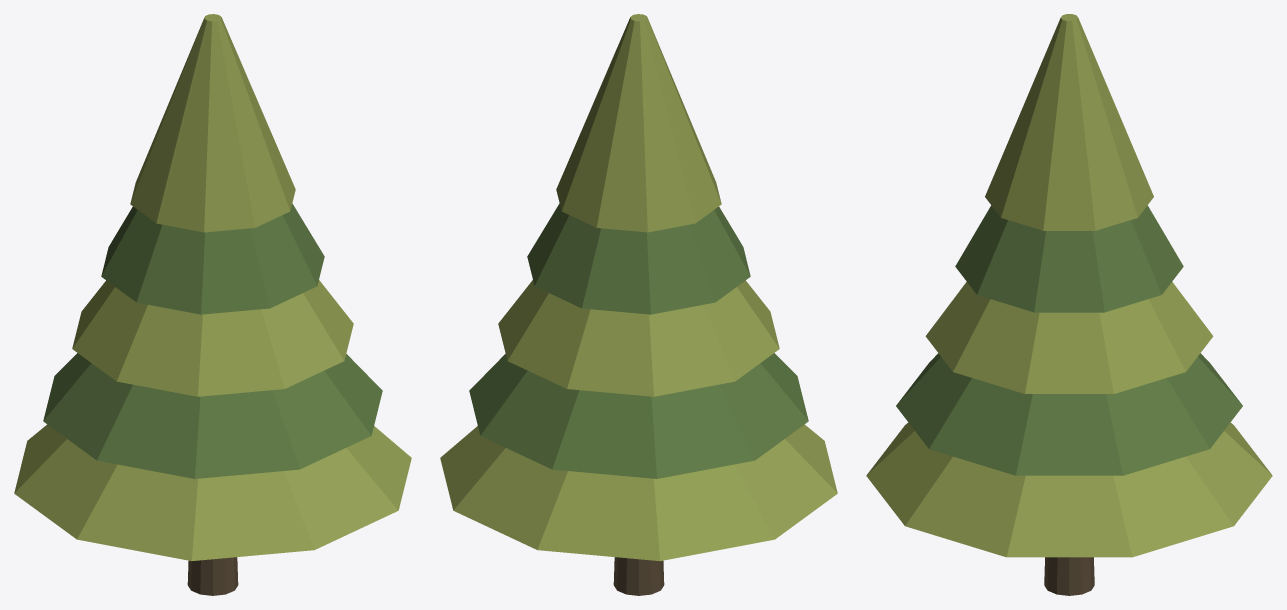
Rendered from SM_Fir.fbx.
3 views of the same model, side by side, from view 1: azimuth 30°, elevation 25°; view 2: azimuth 150°, elevation 25°; view 3: azimuth 270°, elevation 25° (orthographic).
Visible parts, largest first — view 1: Needle_whorl, Needle_whorl.001, Needle_whorl.002, Needle_whorl.004, Needle_whorl.003, Fir_trunk; view 2: Needle_whorl, Needle_whorl.001, Needle_whorl.002, Needle_whorl.004, Needle_whorl.003, Fir_trunk; view 3: Needle_whorl, Needle_whorl.001, Needle_whorl.002, Needle_whorl.004, Needle_whorl.003, Fir_trunk.
Part boxes in pixels (x1,y1,x2,y2): Needle_whorl: (14, 424, 411, 561); Needle_whorl.001: (43, 353, 382, 478); Needle_whorl.002: (72, 280, 353, 396); Needle_whorl.004: (130, 14, 295, 232); Needle_whorl.003: (101, 203, 324, 314); Fir_trunk: (187, 557, 238, 595); Needle_whorl: (440, 424, 837, 561); Needle_whorl.001: (469, 353, 808, 478); Needle_whorl.002: (498, 280, 779, 396); Needle_whorl.004: (556, 14, 721, 232); Needle_whorl.003: (527, 203, 750, 314); Fir_trunk: (613, 557, 664, 595); Needle_whorl: (866, 422, 1272, 557); Needle_whorl.001: (896, 353, 1242, 475); Needle_whorl.002: (925, 282, 1213, 393); Needle_whorl.004: (985, 14, 1153, 230); Needle_whorl.003: (955, 205, 1183, 312); Fir_trunk: (1044, 557, 1094, 595).
Bounding box in the file's own units: 352 × 370 × 570.
